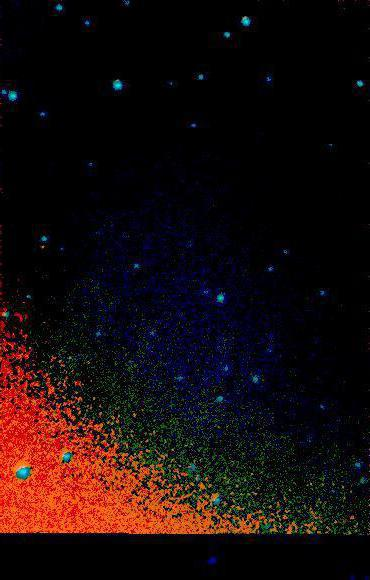star: (29, 233, 59, 263)
